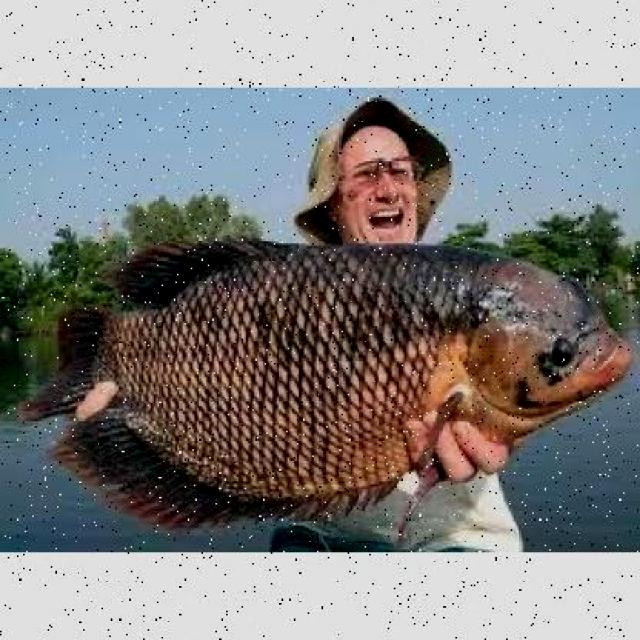gurame: (36, 233, 635, 522)
